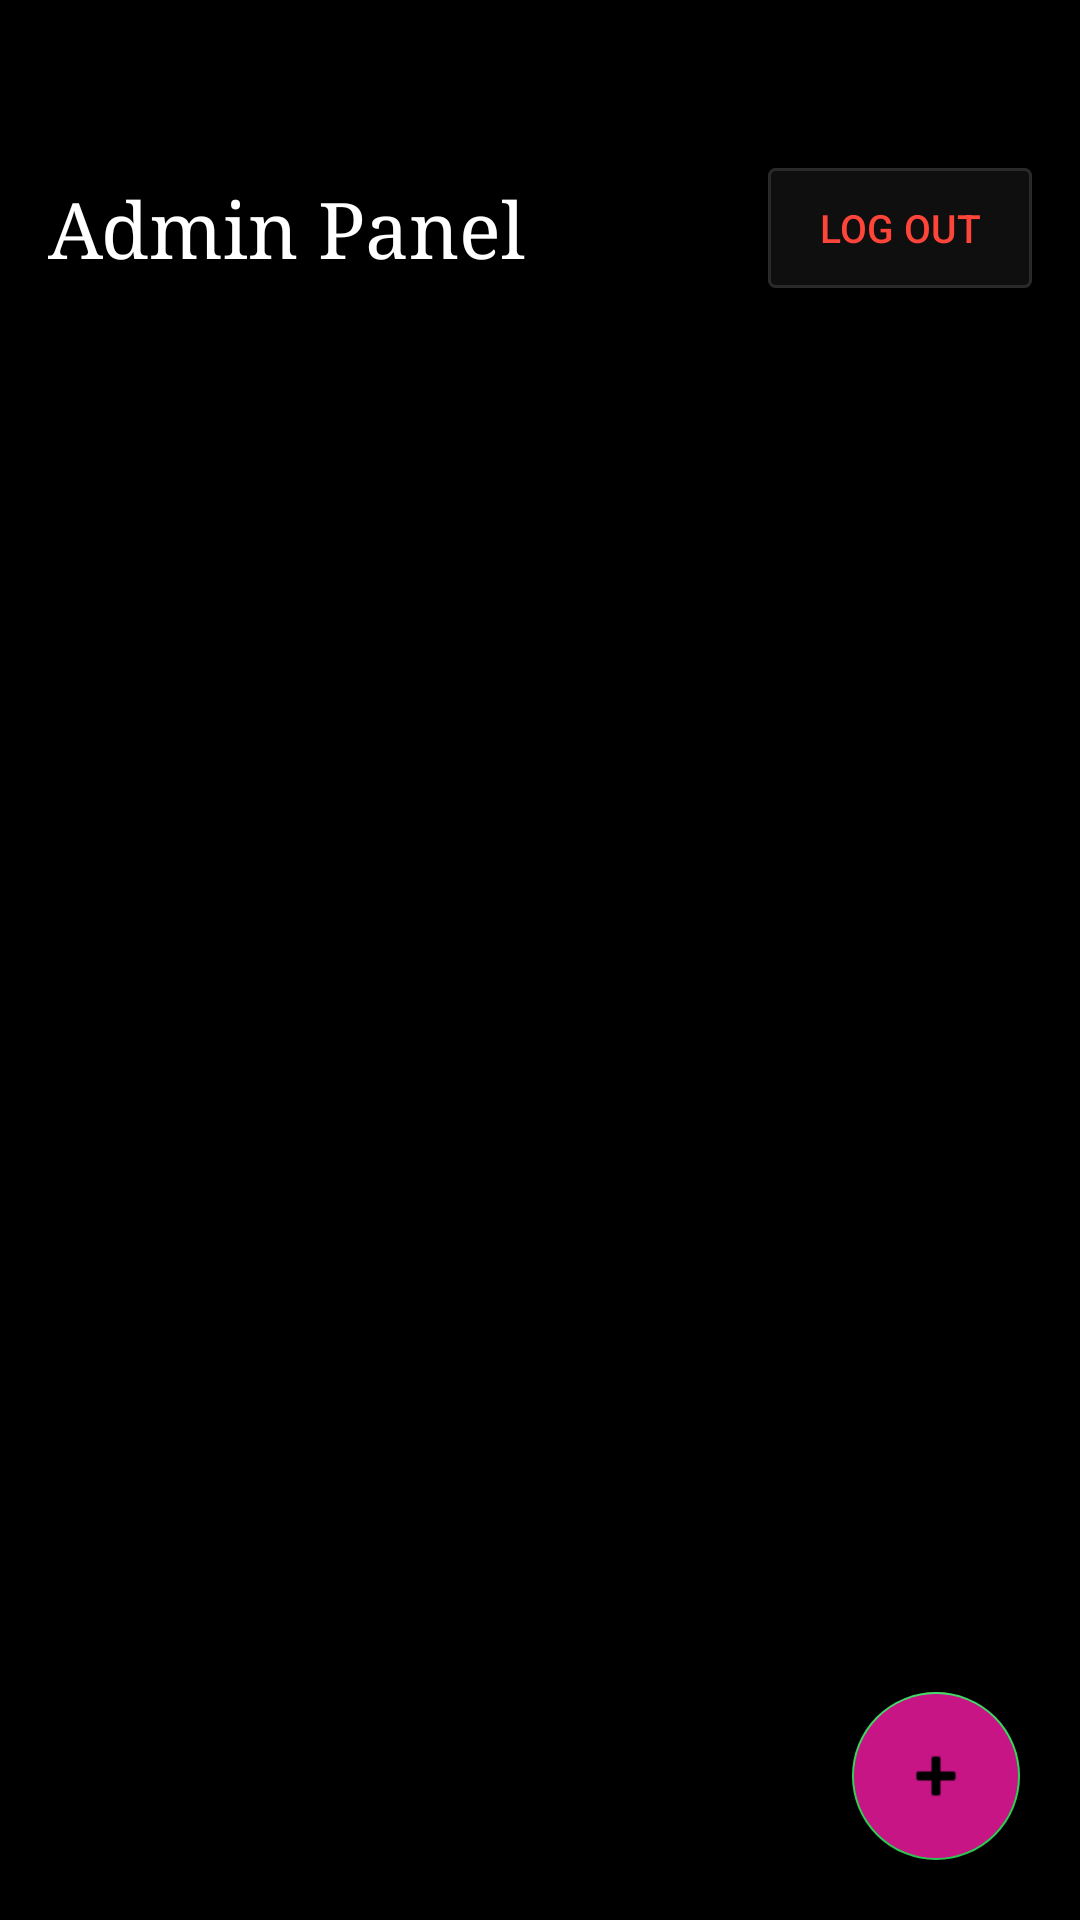

Point at icon controls on the screen. Image size 1080w x 1920h, points as point (x, y).
Add user: point (936, 1776)
